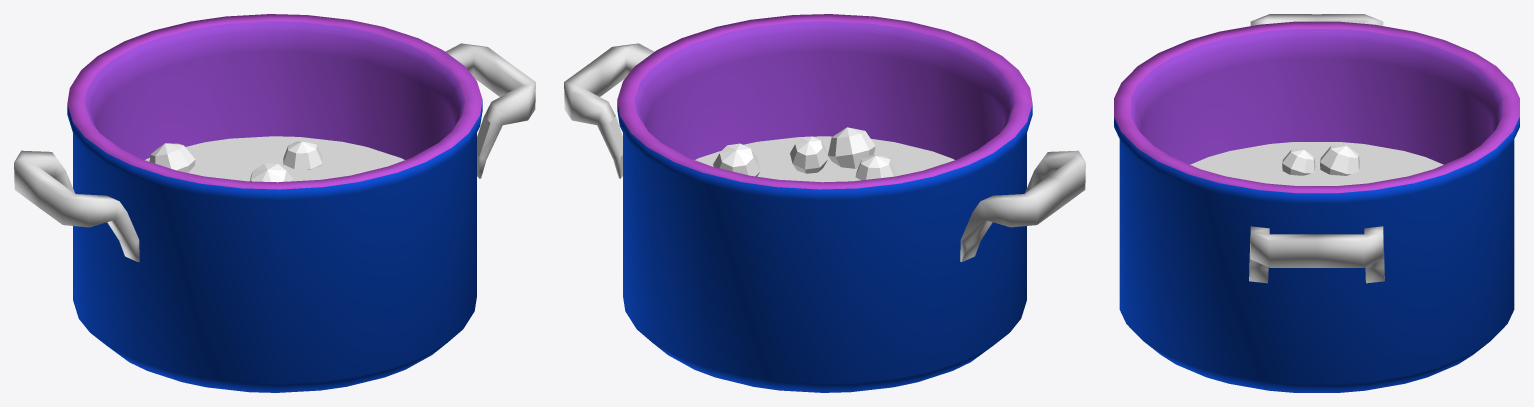
The model's file is SoybeanPotCooked.fbx.
The picture shows the model from 3 angles, left to right: view 1: azimuth 30°, elevation 25°; view 2: azimuth 150°, elevation 25°; view 3: azimuth 270°, elevation 25°; orthographic projection.
Parts seen in each view (by area): view 1: Cylinder.011, Cylinder.012, Water.002, Soybeans; view 2: Cylinder.011, Cylinder.012, Soybeans, Water.002; view 3: Cylinder.011, Cylinder.012, Water.002, Soybeans.
Part boxes in pixels (x1,y1,x2,y2): Cylinder.011: (67,14,482,392); Cylinder.012: (14,43,535,261); Water.002: (145,136,404,181); Soybeans: (149,141,323,182); Cylinder.011: (617,14,1032,392); Cylinder.012: (564,43,1085,261); Soybeans: (713,127,896,180); Water.002: (695,136,954,182); Cylinder.011: (1114,21,1519,392); Cylinder.012: (1249,14,1384,283); Water.002: (1190,142,1443,185); Soybeans: (1282,145,1359,175).
Bounding box in the file's own units: 83.38 × 35.99 × 62.94.
